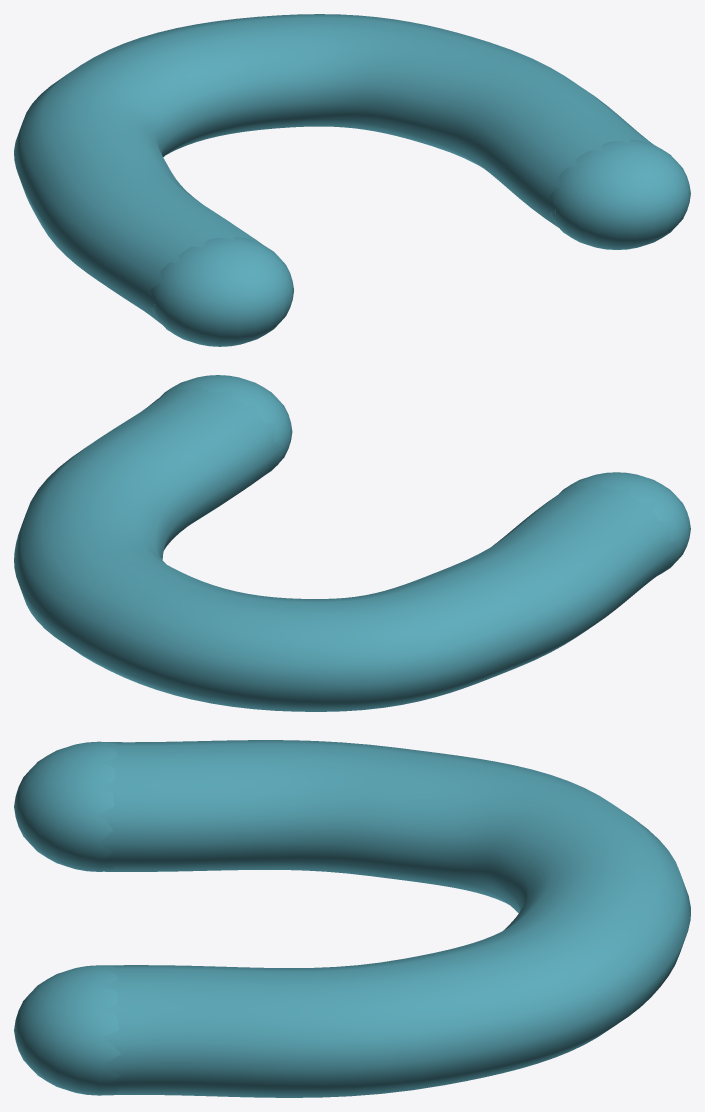
Rendered from arch.glb.
3 renders of one model, top to bottom at view 1: azimuth 30°, elevation 25°; view 2: azimuth 150°, elevation 25°; view 3: azimuth 270°, elevation 25°, orthographic. The views are drawn at different scales.
Visible parts, largest first — view 1: Arch, Arch round end, Arch round end.001; view 2: Arch, Arch round end, Arch round end.001; view 3: Arch, Arch round end.001, Arch round end.
Boxes of the visible parts, left/top/right/bottom form: Arch: left=14, top=14, right=655, bottom=324; Arch round end: left=151, top=237, right=293, bottom=346; Arch round end.001: left=550, top=139, right=690, bottom=249; Arch: left=14, top=382, right=679, bottom=711; Arch round end: left=558, top=472, right=690, bottom=575; Arch round end.001: left=158, top=375, right=292, bottom=474; Arch: left=95, top=740, right=690, bottom=1097; Arch round end.001: left=14, top=965, right=121, bottom=1095; Arch round end: left=14, top=741, right=117, bottom=871.
Size of the model in its own units: 1.75 by 0.294 by 1.66.
